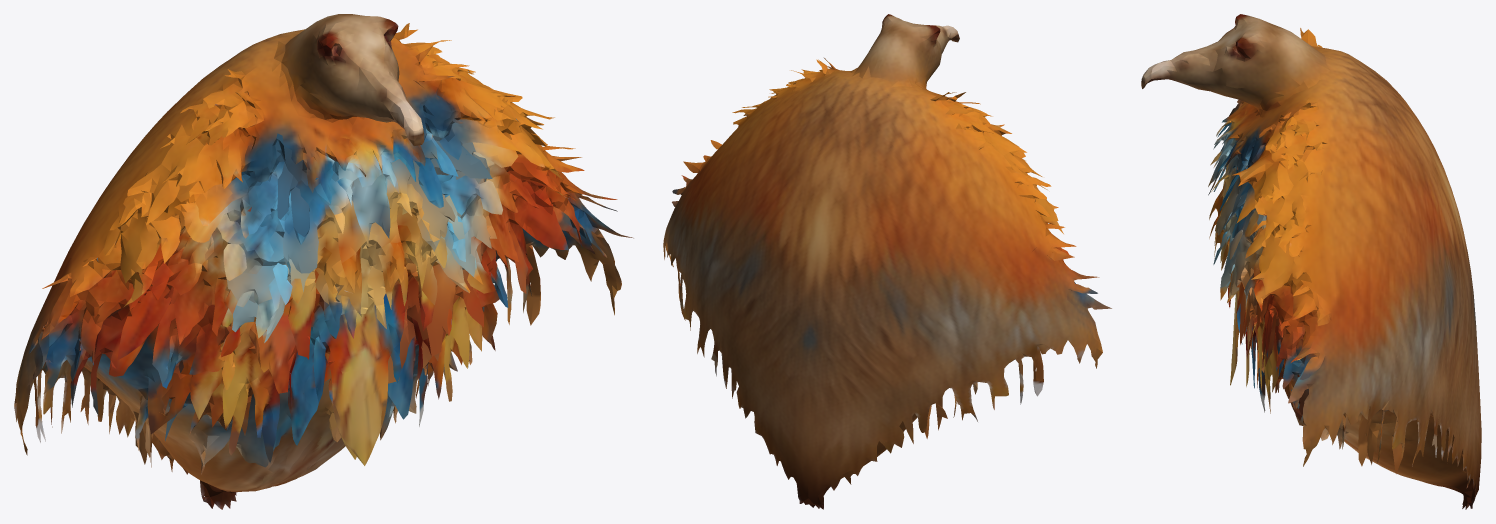
3 views of the same model, side by side, from view 1: azimuth 30°, elevation 25°; view 2: azimuth 150°, elevation 25°; view 3: azimuth 270°, elevation 25° (orthographic). The views are drawn at different scales.
Parts seen in each view (by area): view 1: FeatherCape; view 2: FeatherCape; view 3: FeatherCape.
Part boxes in pixels (left/top/right/bottom): FeatherCape: left=14, top=14, right=633, bottom=509; FeatherCape: left=663, top=14, right=1111, bottom=509; FeatherCape: left=1141, top=14, right=1481, bottom=509.
Size of the model in its own units: 1.89 by 1.72 by 1.1.
Materials: 1 (1 with a texture image).
